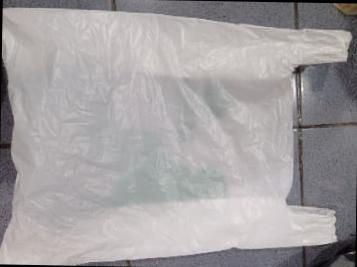Plastik: (0, 9, 350, 264)
